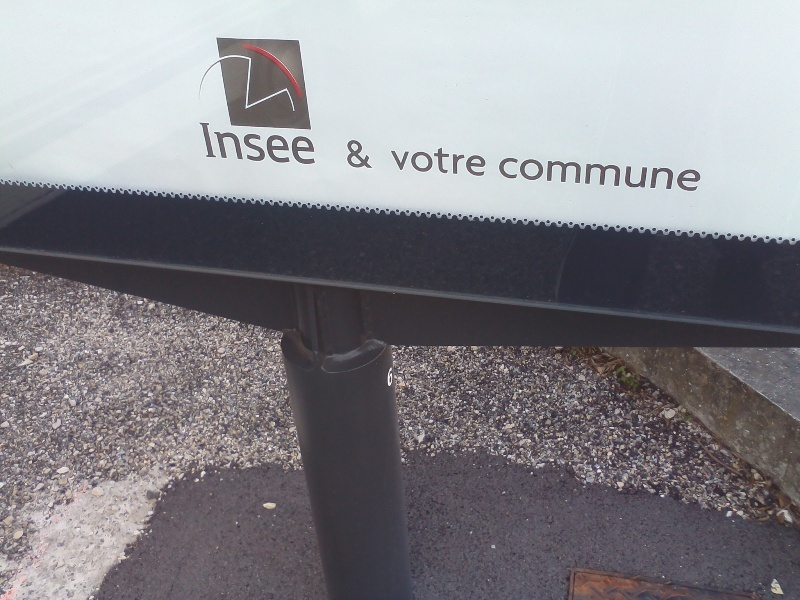text: (209, 122, 224, 166), (225, 122, 240, 166), (241, 122, 256, 166), (257, 122, 272, 166), (273, 122, 288, 166), (289, 122, 304, 166), (513, 157, 528, 192), (529, 157, 544, 192), (545, 157, 560, 192), (561, 157, 576, 192), (577, 157, 592, 192), (593, 157, 608, 192), (609, 157, 624, 192), (625, 157, 640, 192), (641, 157, 656, 192), (657, 157, 672, 192), (673, 157, 688, 192), (689, 157, 704, 192), (401, 144, 416, 178), (417, 144, 432, 178), (433, 144, 448, 178), (449, 144, 464, 178), (465, 144, 480, 178), (498, 157, 512, 192), (305, 122, 316, 166), (353, 140, 368, 170), (387, 144, 400, 178), (199, 122, 208, 166), (346, 140, 352, 170), (481, 144, 486, 178), (369, 140, 374, 170)
